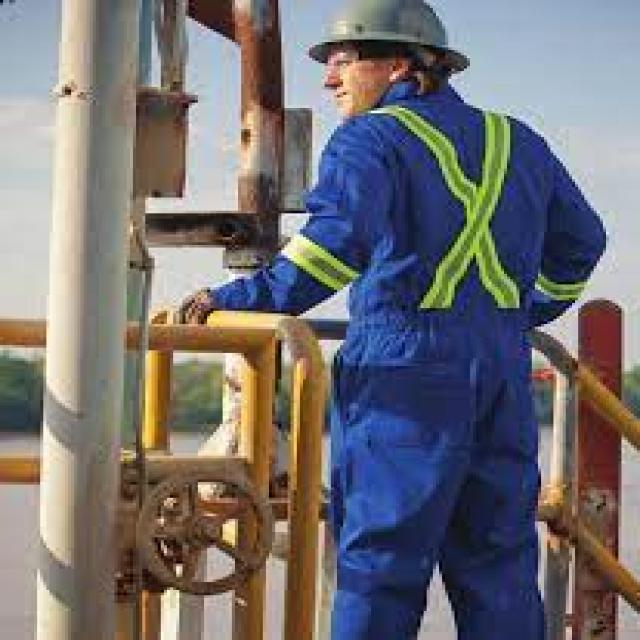vest: (208, 97, 606, 640)
